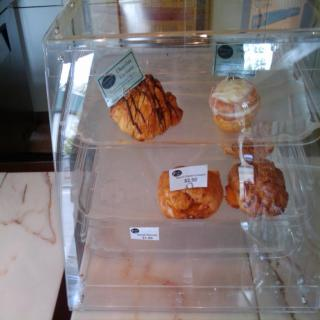Croissant: (111, 74, 182, 142)
